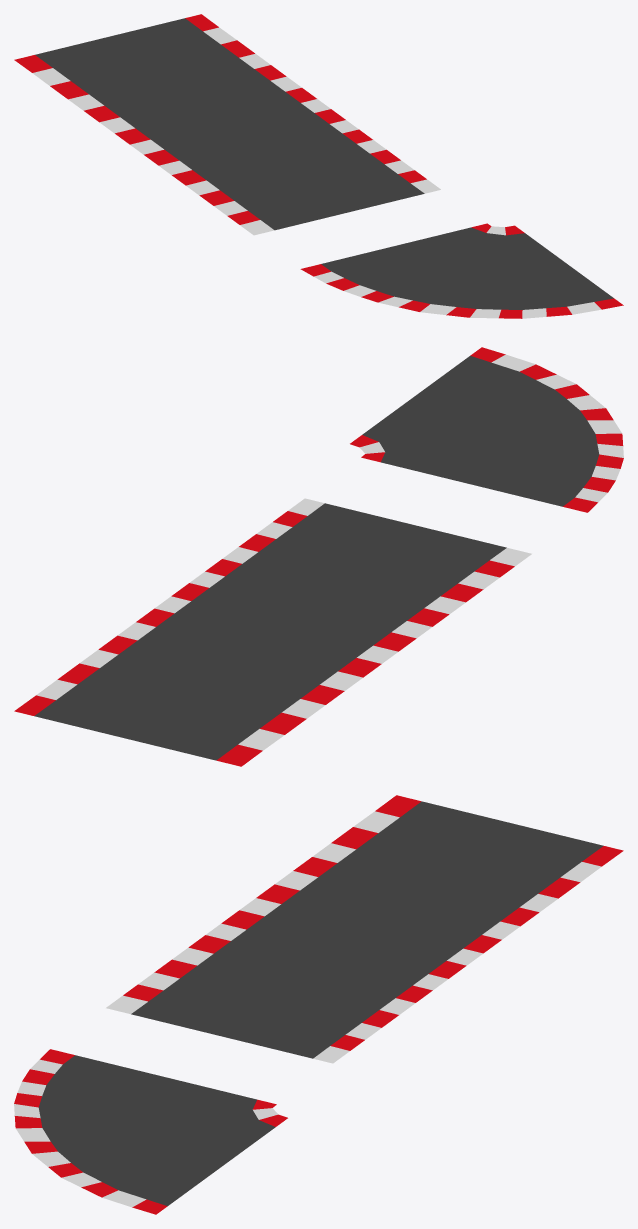
The model's file is Small COrner And Straight.fbx.
3 views of the same model, one above another, from view 1: azimuth 30°, elevation 25°; view 2: azimuth 150°, elevation 25°; view 3: azimuth 330°, elevation 25° (orthographic). The views are drawn at different scales.
Parts seen in each view (by area): view 1: Plane.001, Plane; view 2: Plane.001, Plane; view 3: Plane.001, Plane.
Part boxes in pixels (x1,y1,x2,y2): Plane.001: (14, 14, 440, 235); Plane: (300, 223, 623, 318); Plane.001: (14, 498, 531, 766); Plane: (350, 347, 623, 512); Plane.001: (106, 795, 623, 1063); Plane: (14, 1049, 287, 1214).
Bounding box in the file's own units: 1506 × 0.000495 × 5121.
